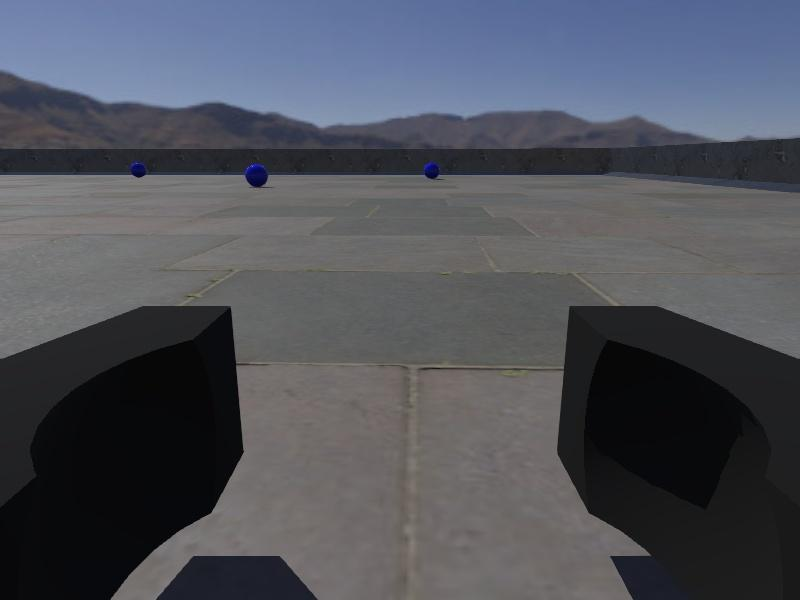blue ball: (245, 165, 269, 188), (422, 161, 442, 178), (129, 161, 147, 178)
